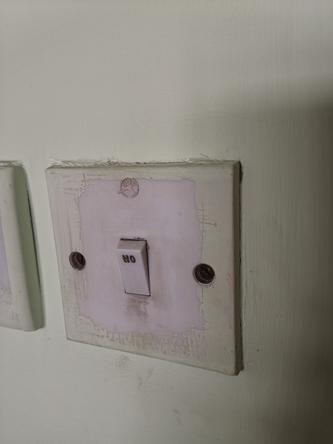switch: (115, 235, 155, 297)
